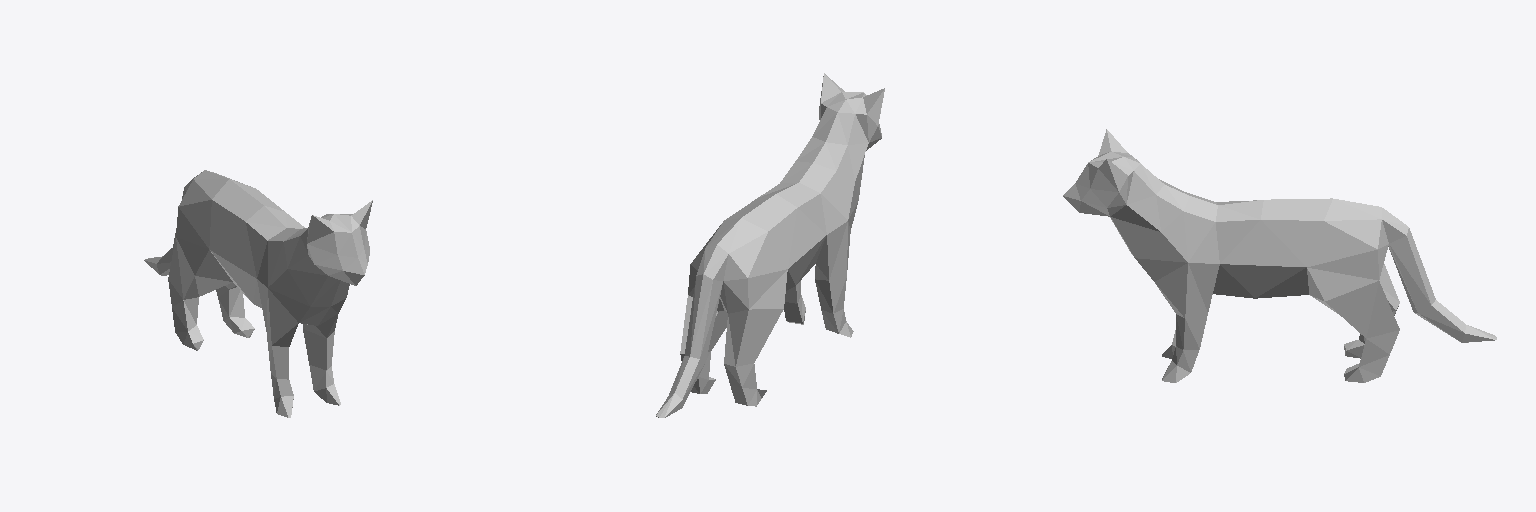
Rendered from Cat.obj.
3 renders of one model, left to right at view 1: azimuth 30°, elevation 25°; view 2: azimuth 150°, elevation 25°; view 3: azimuth 270°, elevation 25°, orthographic.
Visible parts, largest first — view 1: ORIGAMI_Chat; view 2: ORIGAMI_Chat; view 3: ORIGAMI_Chat.
Boxes of the visible parts, <box> form: ORIGAMI_Chat: <box>144,170,372,417</box>; ORIGAMI_Chat: <box>656,73,884,417</box>; ORIGAMI_Chat: <box>1063,129,1496,382</box>.
Bounding box in the file's own units: 0.7185 × 2 × 3.5.